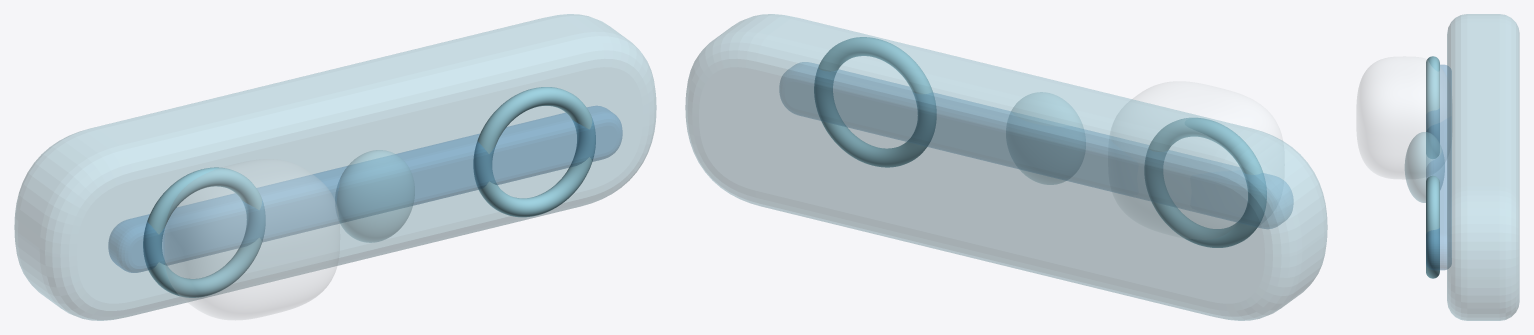
The picture shows the model from 3 angles, left to right: view 1: azimuth 30°, elevation 25°; view 2: azimuth 150°, elevation 25°; view 3: azimuth 270°, elevation 25°; orthographic projection. The views are drawn at different scales.
Parts seen in each view (by area): view 1: cradle, channel, thumb-0, well-lip-0.7, well-lip--0.7, centre-saddle; view 2: cradle, channel, well-lip-0.7, well-lip--0.7, thumb-0, centre-saddle; view 3: cradle, thumb-0, channel, centre-saddle, well-lip-0.7, well-lip--0.7.
Part boxes in pixels (bbox=[...]): cradle: bbox=[14, 14, 656, 320]; channel: bbox=[108, 106, 622, 272]; thumb-0: bbox=[164, 159, 339, 320]; well-lip-0.7: bbox=[473, 87, 595, 217]; well-lip--0.7: bbox=[143, 167, 265, 297]; centre-saddle: bbox=[335, 150, 414, 242]; cradle: bbox=[685, 14, 1327, 320]; channel: bbox=[779, 62, 1293, 228]; well-lip-0.7: bbox=[814, 37, 936, 167]; well-lip--0.7: bbox=[1144, 117, 1266, 247]; thumb-0: bbox=[1132, 81, 1282, 140]; centre-saddle: bbox=[1011, 92, 1083, 184]; cradle: bbox=[1447, 14, 1519, 320]; thumb-0: bbox=[1356, 56, 1446, 179]; channel: bbox=[1426, 65, 1451, 269]; centre-saddle: bbox=[1405, 132, 1444, 202]; well-lip-0.7: bbox=[1426, 175, 1439, 278]; well-lip--0.7: bbox=[1426, 56, 1439, 158].
Bounding box in the file's own units: 2.6 × 0.69 × 0.81.
